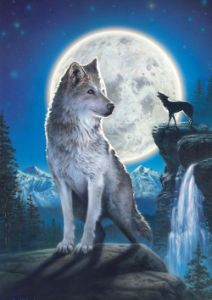wolf: (40, 56, 151, 252), (155, 89, 198, 128)
